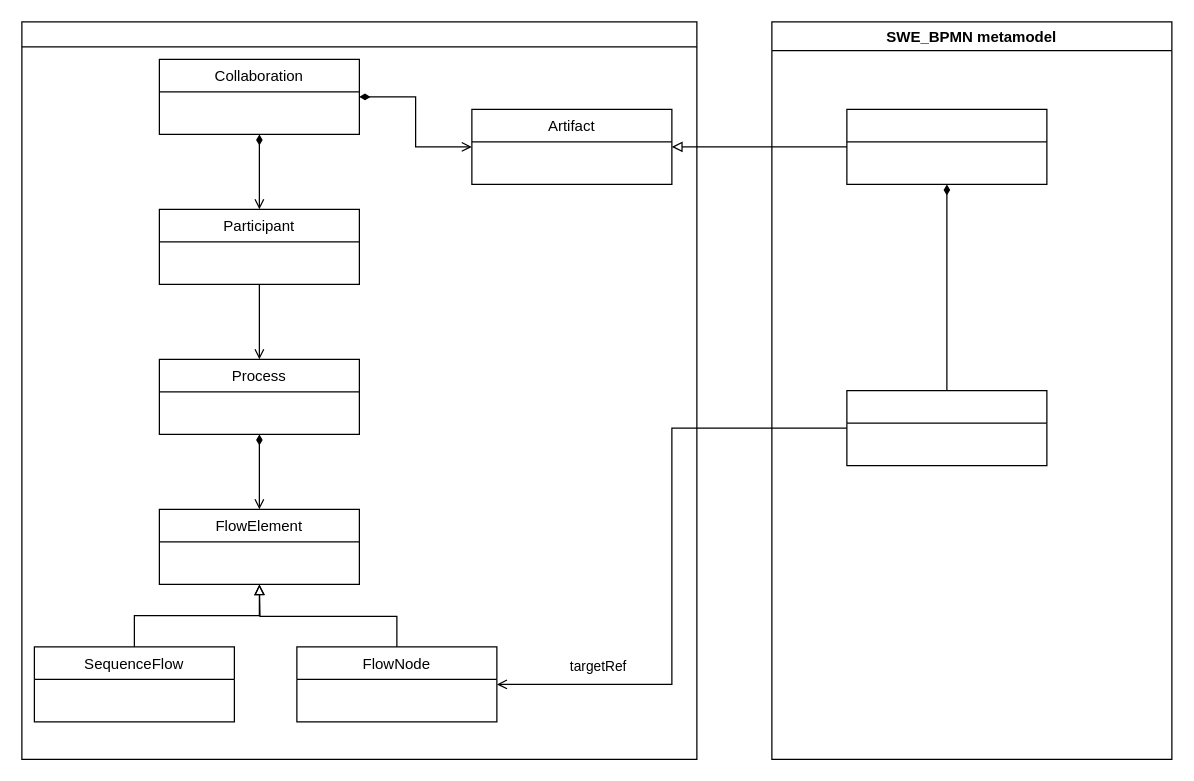
Image size: 1194x781. Some labels were removed from this diagram. Here are the shapes that lost their labels. From the top down, the centre of each, then its label:
(x=946, y=146): SWE_General
(x=359, y=390): BPMN metamodel
(x=946, y=427): SWE_Type_Object
